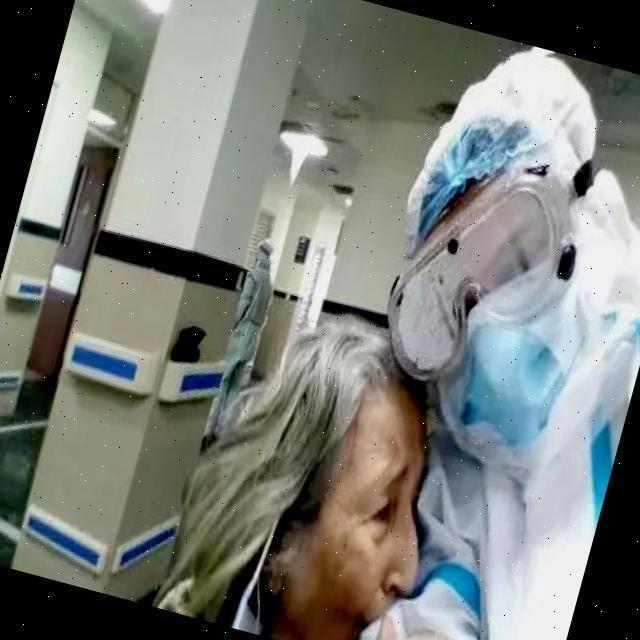mask: (438, 314, 574, 458)
no_gloves: (206, 323, 402, 464)
